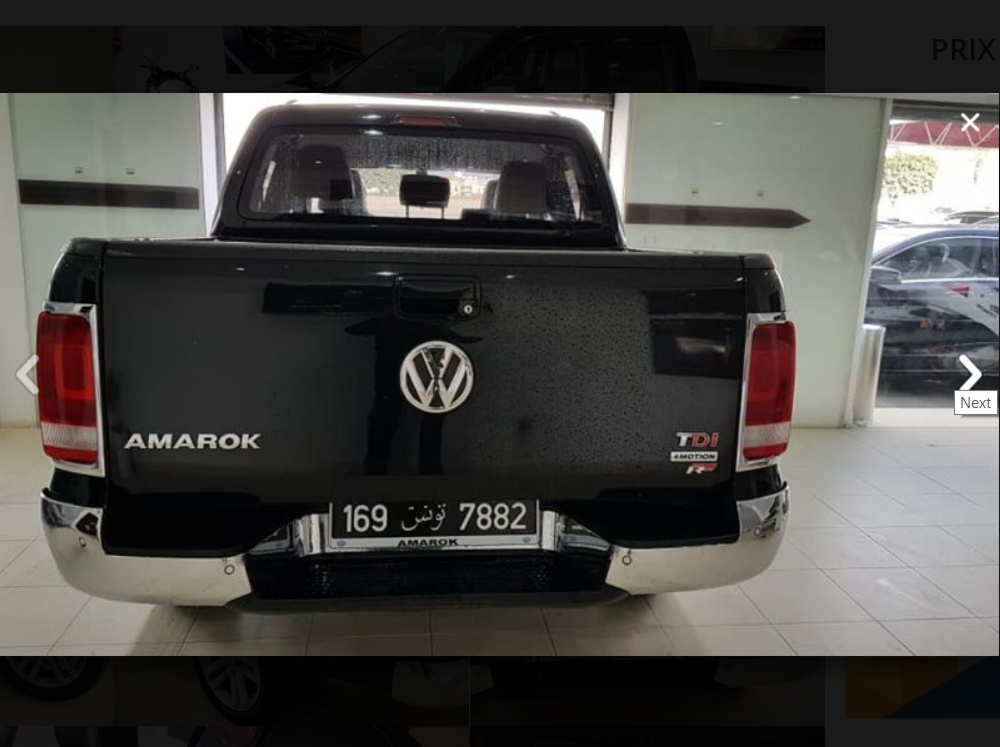LP: (327, 494, 546, 549)
